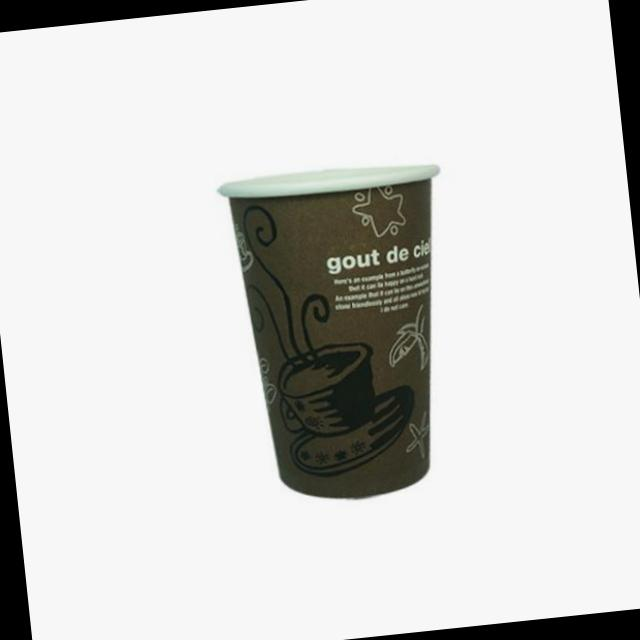trash: (212, 151, 480, 514)
